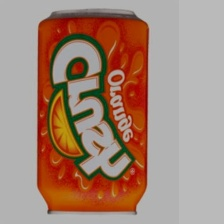can: (32, 6, 152, 219)
